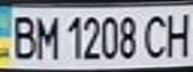0: (100, 12, 121, 61)
1: (60, 11, 84, 61)
2: (78, 11, 103, 61)
8: (118, 11, 142, 61)
B: (6, 11, 39, 61)
C: (139, 11, 172, 60)
H: (160, 9, 193, 58)
M: (30, 11, 60, 61)
